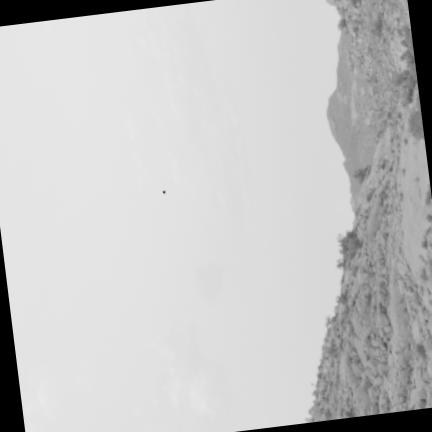Shahed: (160, 188, 168, 193)
